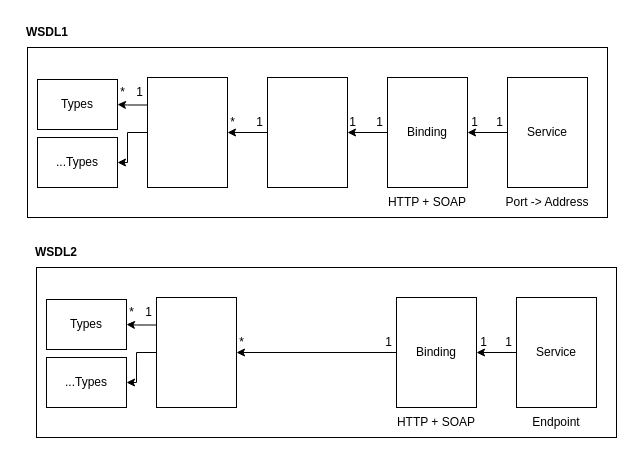
Image size: 634x455. Some labels were removed from this diagram. Here are the shapes that lost their labels. From the top down, the centre of each, then its label:
point (187, 132): Message
point (307, 132): Port Type
point (196, 352): Interface
